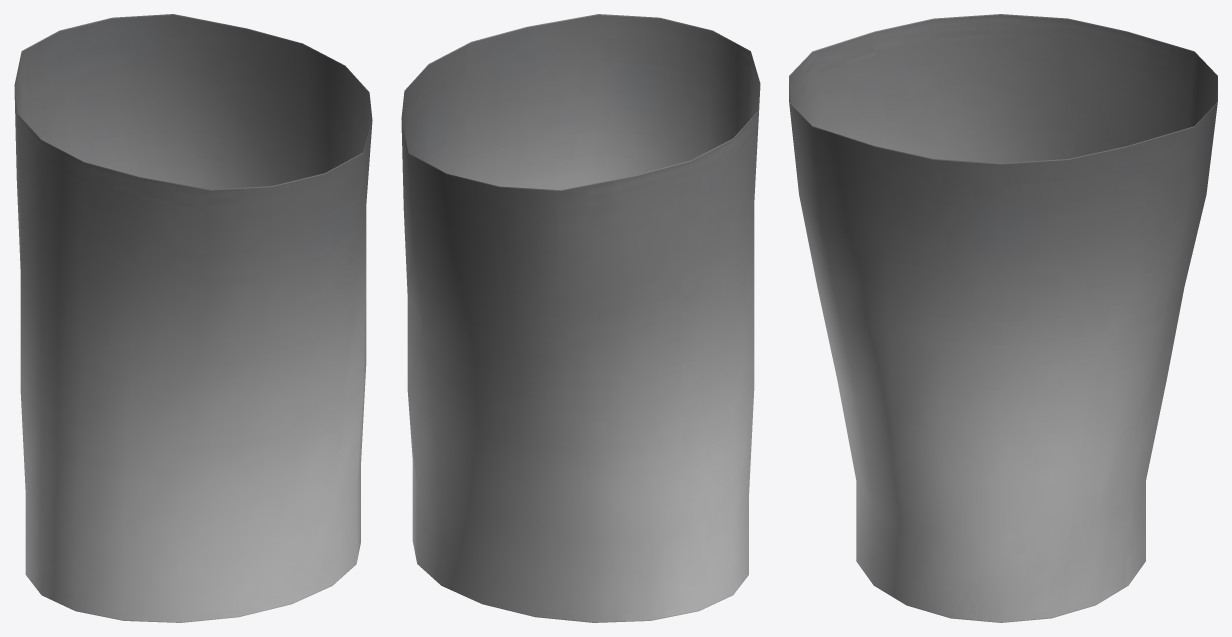
Rendered from Shot Glass Asset.FBX.
3 renders of one model, left to right at view 1: azimuth 30°, elevation 25°; view 2: azimuth 150°, elevation 25°; view 3: azimuth 270°, elevation 25°, orthographic.
Visible parts, largest first — view 1: Shot Glass; view 2: Shot Glass; view 3: Shot Glass.
Boxes of the visible parts, x1=… form: Shot Glass: x1=14, y1=14, x2=372, y2=622; Shot Glass: x1=401, y1=14, x2=760, y2=622; Shot Glass: x1=789, y1=14, x2=1217, y2=622.
Bounding box in the file's own units: 7.73 × 11.07 × 9.37.
1 material, 1 textured.
